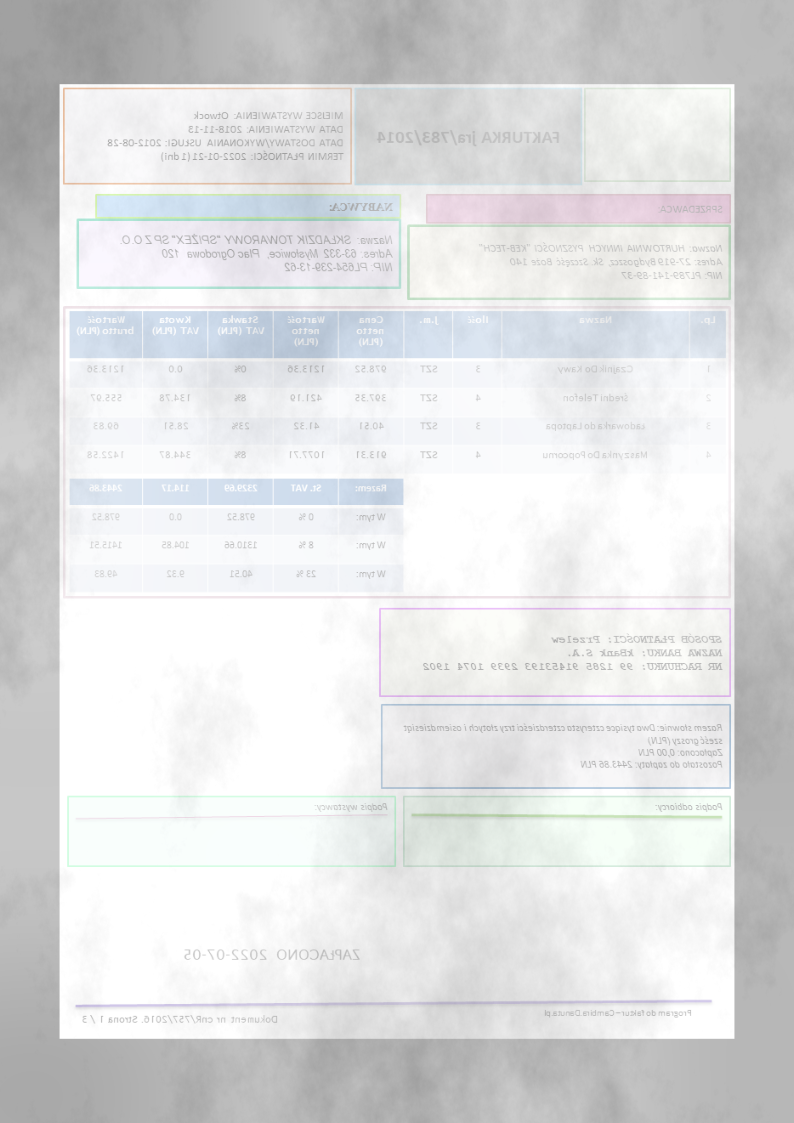Table: (69, 309, 728, 474), (70, 476, 405, 593)
TextBox: (401, 720, 725, 772), (104, 107, 346, 164), (422, 630, 723, 675), (119, 230, 396, 277), (478, 240, 725, 285), (374, 127, 564, 147), (184, 944, 363, 963), (80, 1012, 280, 1026), (542, 1005, 694, 1019), (314, 799, 391, 815), (657, 201, 727, 217), (655, 798, 724, 814), (327, 199, 396, 214)
